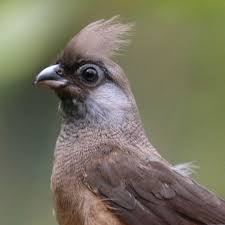target: (33, 18, 224, 225)
